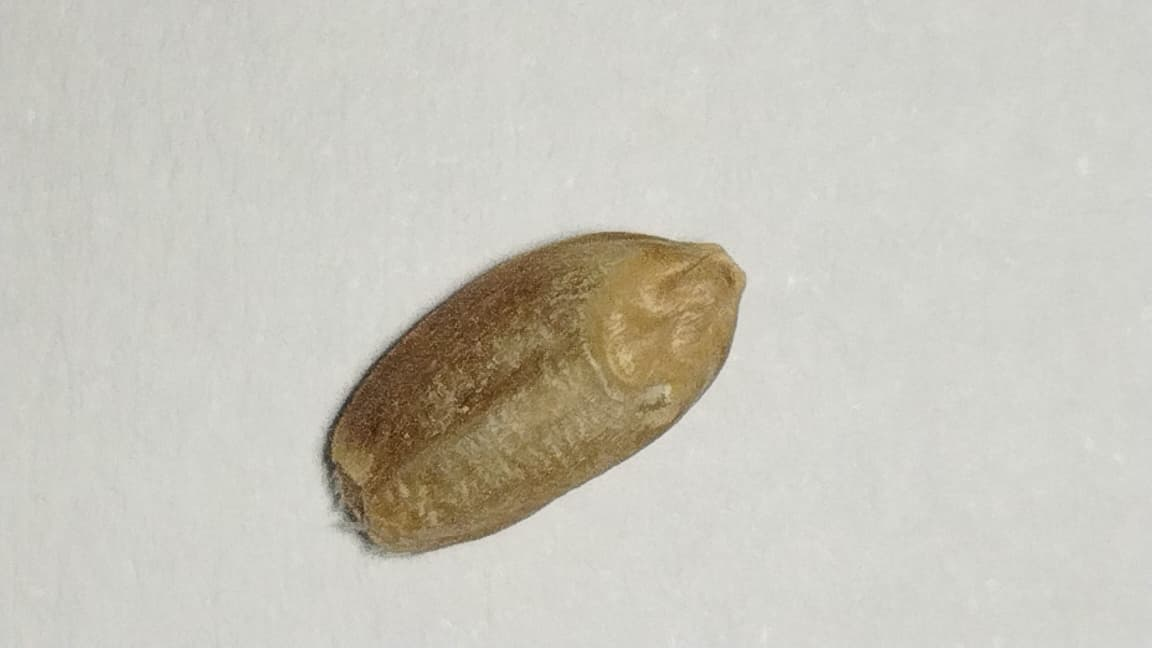healthy: (330, 233, 730, 552)
